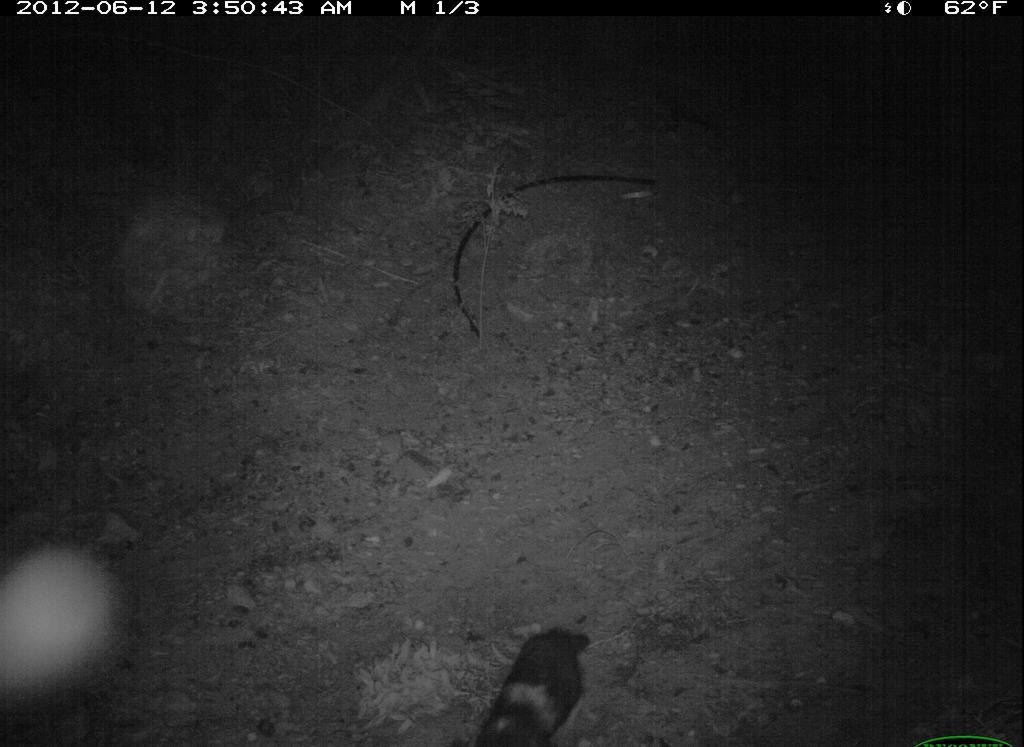cat: (450, 621, 601, 747)
